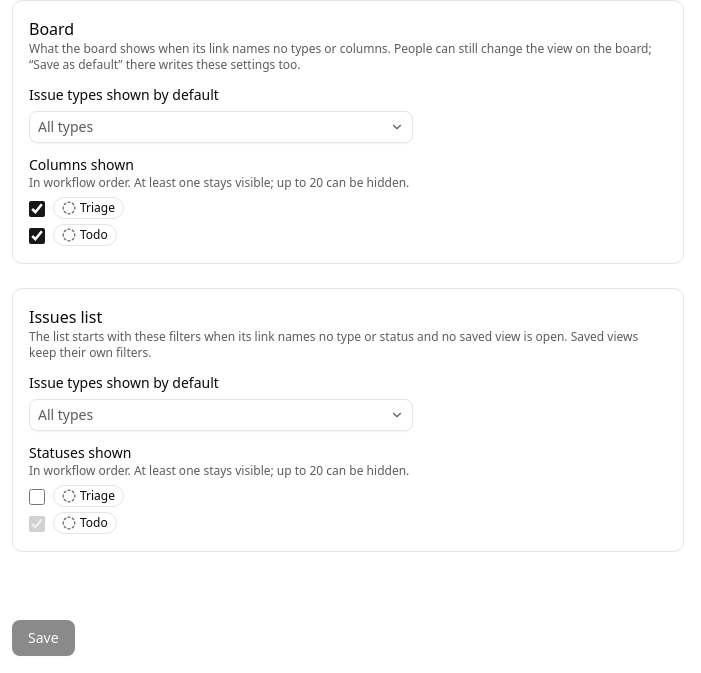
Test: ViewDefaultsEditor (Views tab, BRD-6 / VW-4) › keeps at least one status visible per side
Expected: the checkbox labelled "Triage" below "Statuses shown" is not checked, [29, 488, 45, 504]
Expected: the checkbox labelled "Todo" below "Statuses shown" is disabled, [29, 516, 45, 532]
Click the checkbox labelled "Todo" below "Columns shown".
click(37, 236)  # box [29, 228, 45, 244]
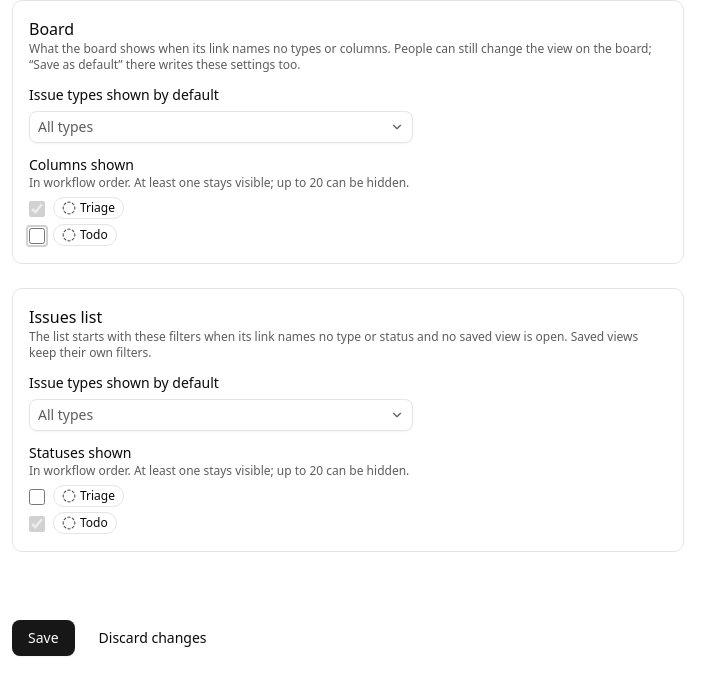
Now the checkbox labelled "Triage" below "Columns shown" is disabled, box [29, 200, 45, 216]
